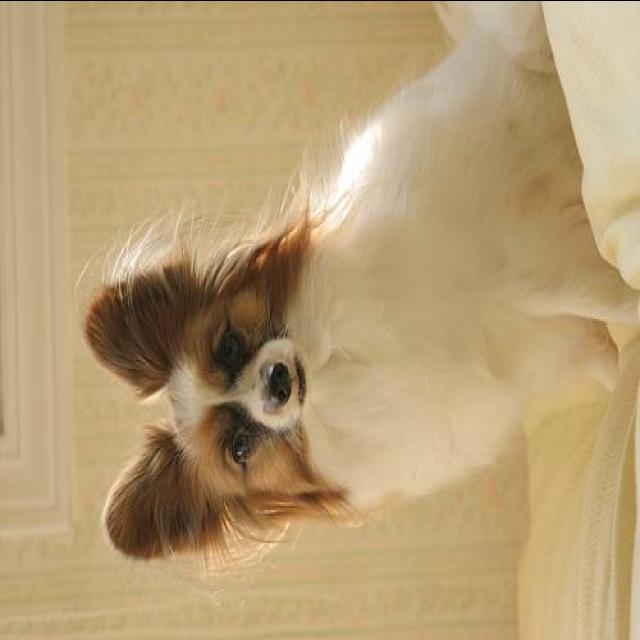papillon: (80, 32, 638, 568)
